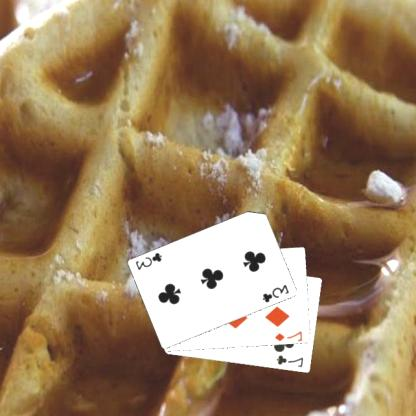3C: (262, 281, 293, 304), (135, 250, 165, 272)
7C: (276, 352, 308, 368)
7D: (274, 329, 306, 342)
